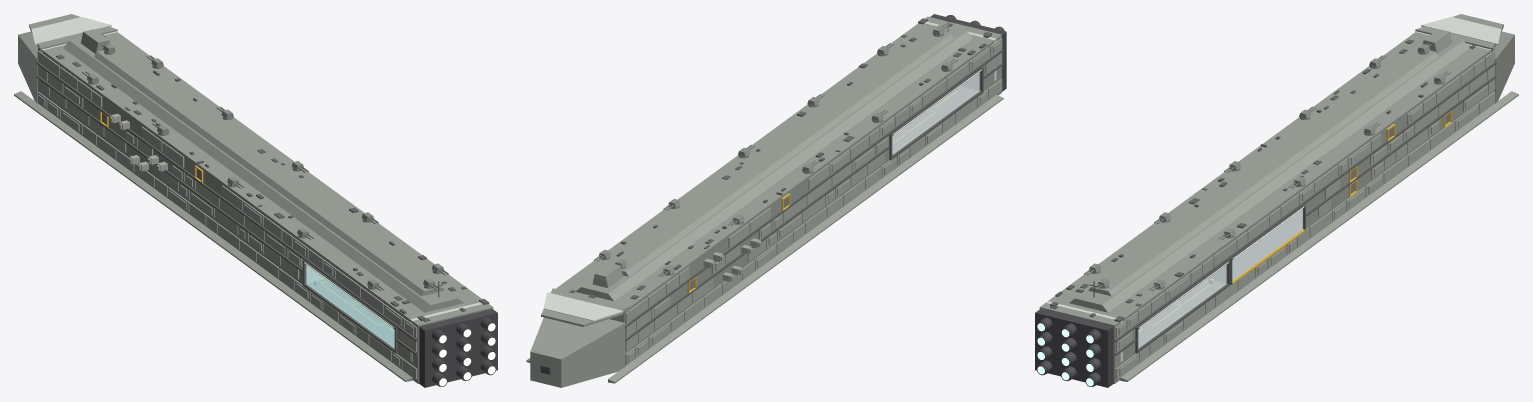
File: ship_XL.glb
The picture shows the model from 3 angles, left to right: view 1: azimuth 30°, elevation 25°; view 2: azimuth 150°, elevation 25°; view 3: azimuth 330°, elevation 25°; orthographic projection.
Visible parts, largest first — view 1: XL_Hull-col, XL_Armor, XL_Engines, XL_Trim, XL_HangarShield_Port, XL_Decks-col, XL_Accent, XL_Details, XL_EngineGlow; view 2: XL_Hull-col, XL_Armor, XL_Trim, XL_HangarShield_Port, XL_Decks-col, XL_Accent, XL_Details, XL_Engines; view 3: XL_Hull-col, XL_Armor, XL_Engines, XL_Trim, XL_HangarShield_Starboard, XL_CargoBayShield, XL_CargoBayDoor-col, XL_Decks-col, XL_Accent, XL_Details, XL_Hazard, XL_EngineGlow.
Part boxes in pixels (left/top/right/bottom): XL_Hull-col: left=14, top=14, right=493, bottom=383; XL_Armor: left=37, top=50, right=417, bottom=379; XL_Engines: left=419, top=309, right=497, bottom=387; XL_Trim: left=36, top=62, right=418, bottom=355; XL_HangarShield_Port: left=306, top=265, right=394, bottom=347; XL_Decks-col: left=308, top=279, right=394, bottom=346; XL_Accent: left=31, top=17, right=482, bottom=362; XL_Details: left=56, top=34, right=489, bottom=321; XL_EngineGlow: left=439, top=323, right=495, bottom=386; XL_Hull-col: left=526, top=16, right=1003, bottom=387; XL_Armor: left=625, top=38, right=1002, bottom=364; XL_Trim: left=625, top=49, right=1003, bottom=341; XL_HangarShield_Port: left=892, top=72, right=979, bottom=154; XL_Decks-col: left=892, top=86, right=977, bottom=153; XL_Accent: left=543, top=21, right=996, bottom=337; XL_Details: left=569, top=15, right=991, bottom=299; XL_Engines: left=540, top=14, right=1006, bottom=374; XL_Hull-col: left=1039, top=14, right=1518, bottom=383; XL_Armor: left=1115, top=50, right=1495, bottom=379; XL_Engines: left=1035, top=309, right=1113, bottom=387; XL_Trim: left=1114, top=62, right=1496, bottom=355; XL_HangarShield_Starboard: left=1138, top=265, right=1226, bottom=347; XL_CargoBayShield: left=1232, top=209, right=1302, bottom=280; XL_CargoBayDoor-col: left=1232, top=209, right=1302, bottom=279; XL_Decks-col: left=1138, top=279, right=1224, bottom=346; XL_Accent: left=1045, top=17, right=1501, bottom=362; XL_Details: left=1050, top=39, right=1475, bottom=321; XL_Hazard: left=1138, top=110, right=1451, bottom=331; XL_EngineGlow: left=1037, top=323, right=1093, bottom=386.
Bounding box in the file's own units: 27.8 × 25.4 × 230.
